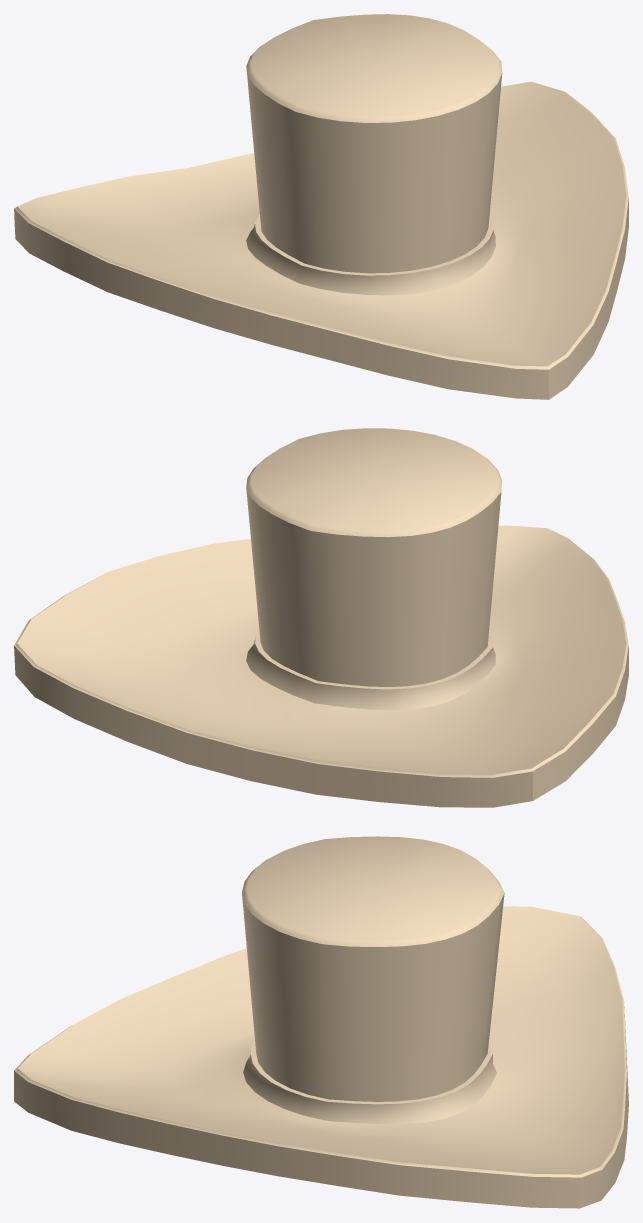
The model's file is Hat.glb.
3 views of the same model, one above another, from view 1: azimuth 30°, elevation 25°; view 2: azimuth 150°, elevation 25°; view 3: azimuth 270°, elevation 25° (orthographic). The views are drawn at different scales.
Visible parts, largest first — view 1: Monopoly Hat; view 2: Monopoly Hat; view 3: Monopoly Hat.
Boxes of the visible parts, left/top/right/bottom form: Monopoly Hat: left=14, top=14, right=628, bottom=399; Monopoly Hat: left=14, top=428, right=628, bottom=807; Monopoly Hat: left=14, top=836, right=628, bottom=1208.
Bounding box in the file's own units: 3.35 × 1.25 × 3.23.
